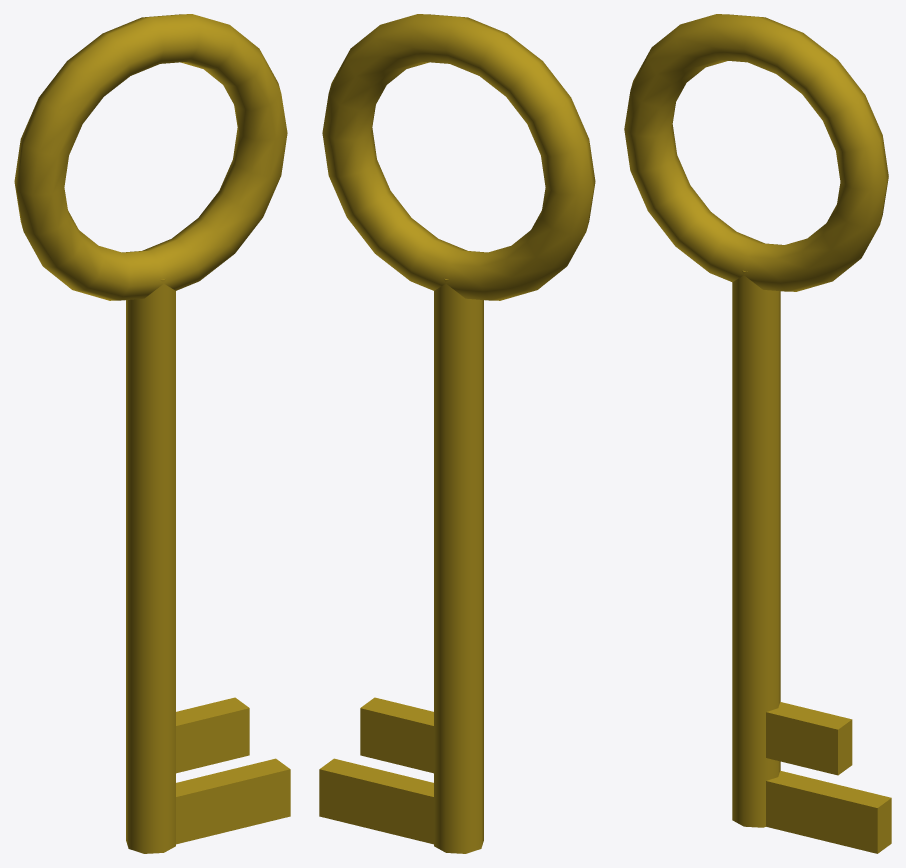
Rendered from key.obj.
3 renders of one model, left to right at view 1: azimuth 30°, elevation 25°; view 2: azimuth 150°, elevation 25°; view 3: azimuth 330°, elevation 25°, orthographic. The views are drawn at different scales.
Parts seen in each view (by area): view 1: Torus001, Cylinder001, Box001, Box002; view 2: Torus001, Cylinder001, Box001, Box002; view 3: Torus001, Cylinder001, Box001, Box002.
Boxes of the visible parts, x1,y1,x2,y2 form: Torus001: (14,14,287,300); Cylinder001: (126,279,175,853); Box001: (176,758,290,844); Box002: (176,697,249,773); Torus001: (322,14,595,300); Cylinder001: (434,279,483,853); Box001: (319,758,433,844); Box002: (360,697,433,773); Torus001: (624,14,888,291); Cylinder001: (732,270,780,827); Box001: (766,770,891,853); Box002: (766,702,852,775).
Size of the model in its own units: 23.92 by 70.48 by 4.
